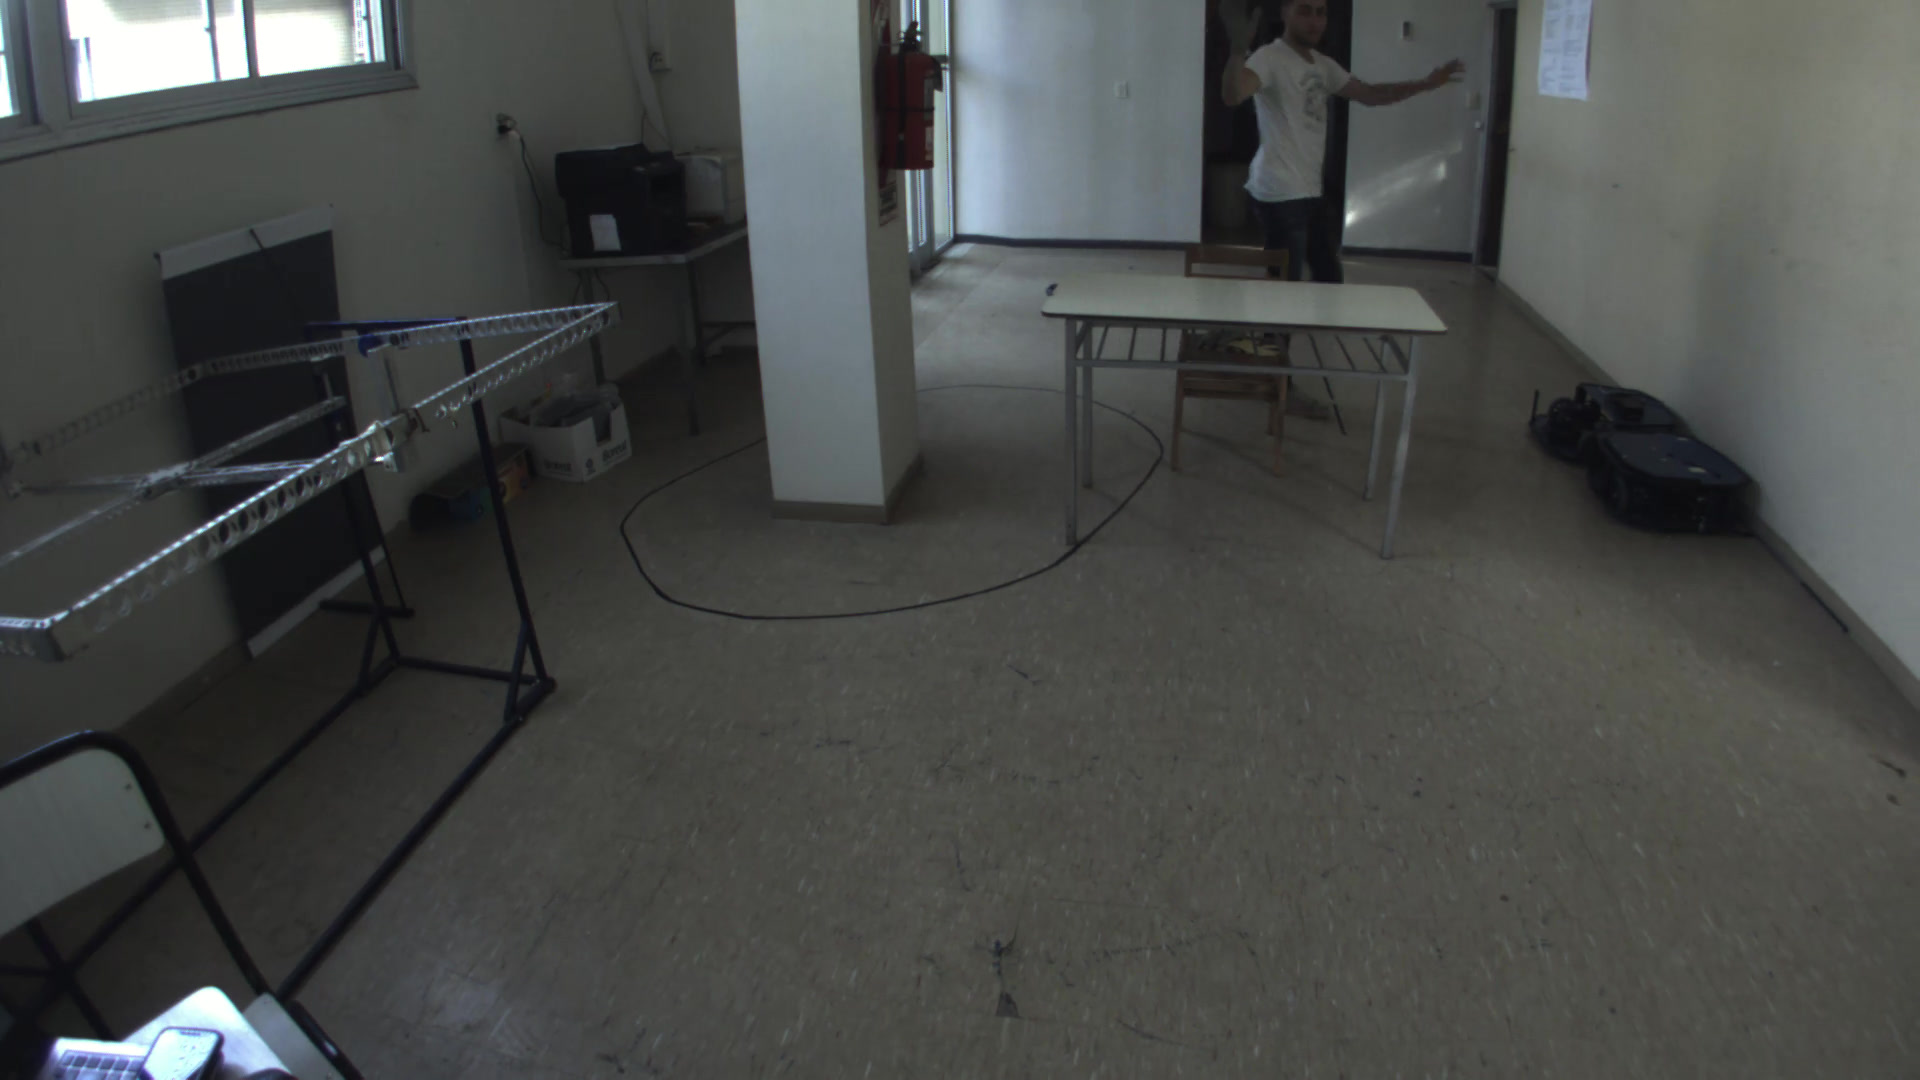hand: (1410, 46, 1477, 102), (1203, 1, 1259, 59)
